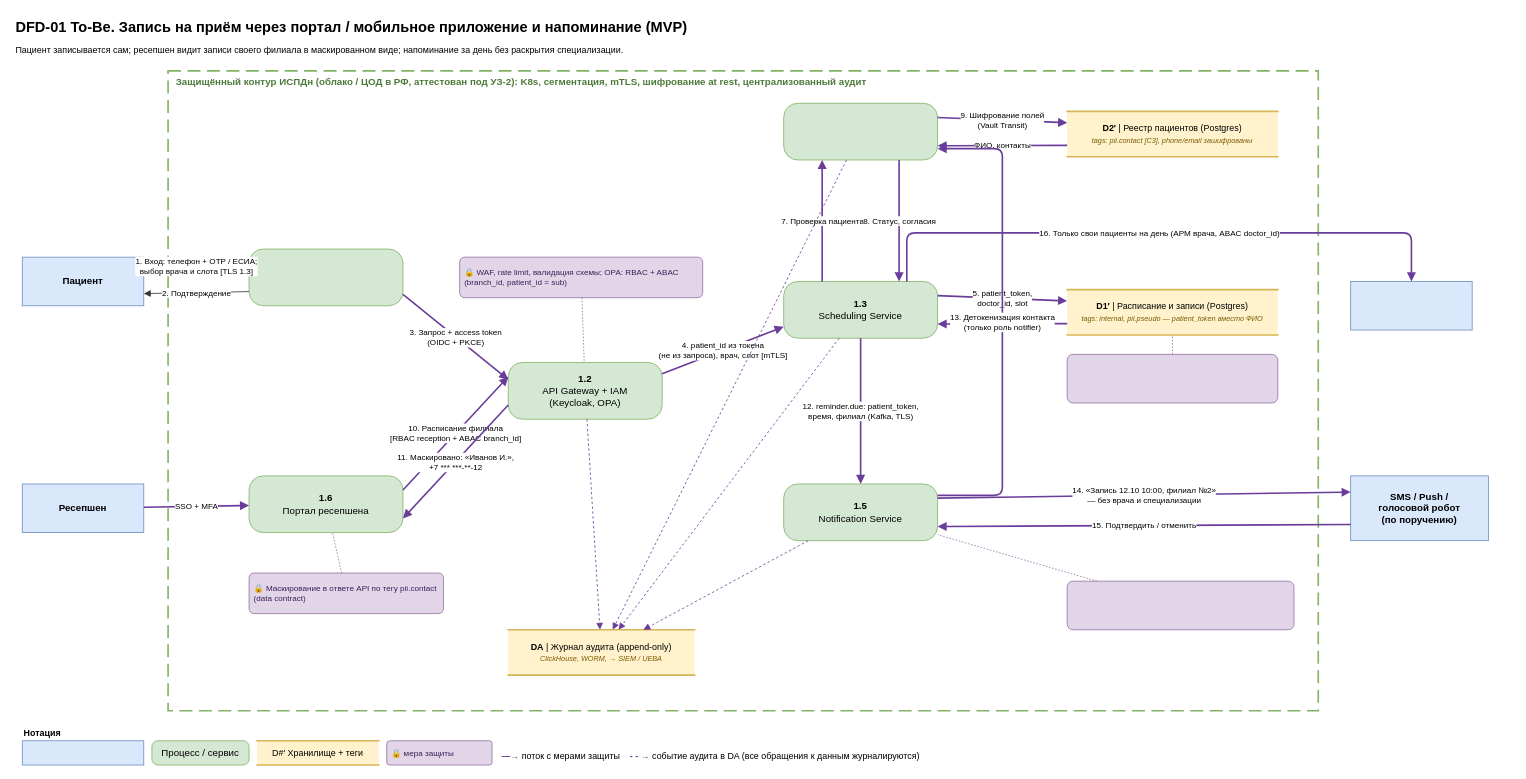
Image size: 1526x779. Some labels were removed from this diagram. The shapes that lost their labels are listed below. From the top down, each one's centre as x and y in pixels, then its label:
At (x=860, y=131): "1.4 Patient Registry (MPI)".
At (x=325, y=277): "1.1 Портал / мобильное приложение (ЛК)".
At (x=1411, y=305): "Медицинский специалист".
At (x=1172, y=378): "🔒 AES-256 at rest (LUKS/TDE) + field-level; ключи в Vault/HSM; RLS по branch_id".
At (x=1180, y=605): "🔒 Проверка согласия на уведомления (Consent); договор поручения с провайдером".
At (x=82, y=752): "Внешняя сущность / роль".
